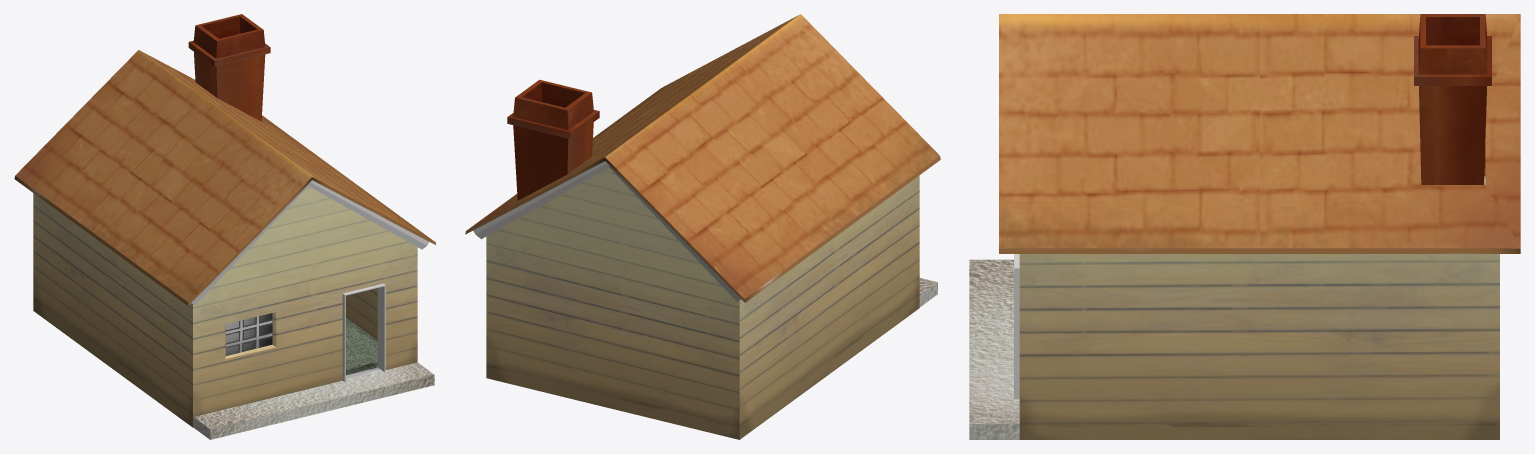
Rendered from house5.glb.
3 views of the same model, side by side, from view 1: azimuth 30°, elevation 25°; view 2: azimuth 150°, elevation 25°; view 3: azimuth 270°, elevation 25° (orthographic). The views are drawn at different scales.
Visible parts, largest first — view 1: casa; view 2: casa; view 3: casa.
Part boxes in pixels (x1,y1,x2,y2): casa: (14, 14, 436, 439); casa: (465, 14, 940, 439); casa: (969, 14, 1520, 439).
Size of what is drawn, in the model's own units: 5.73 by 5.53 by 7.34.
1 material, 1 textured.
